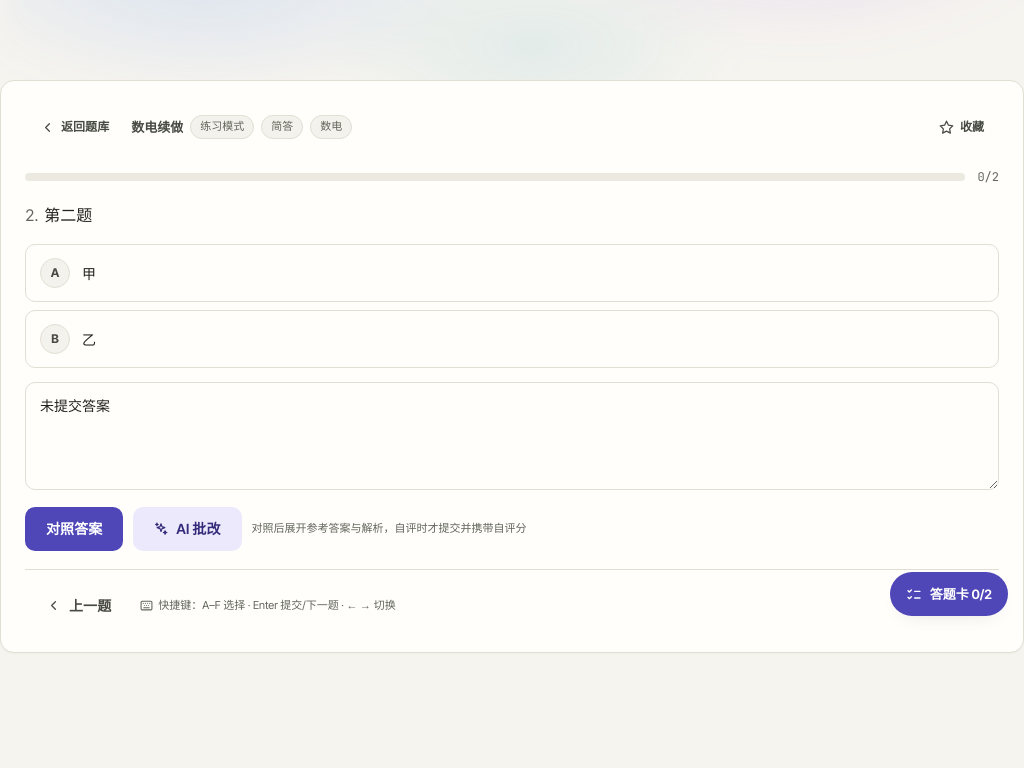
Scenario: 普通刷题持久会话前端 › 文本题自评提交失败保留对照结果，重试后才写入判分
Later steps or results of the test are not shown.
Step 1. Click the button "对照答案" → (74, 529), box [25, 507, 123, 551]
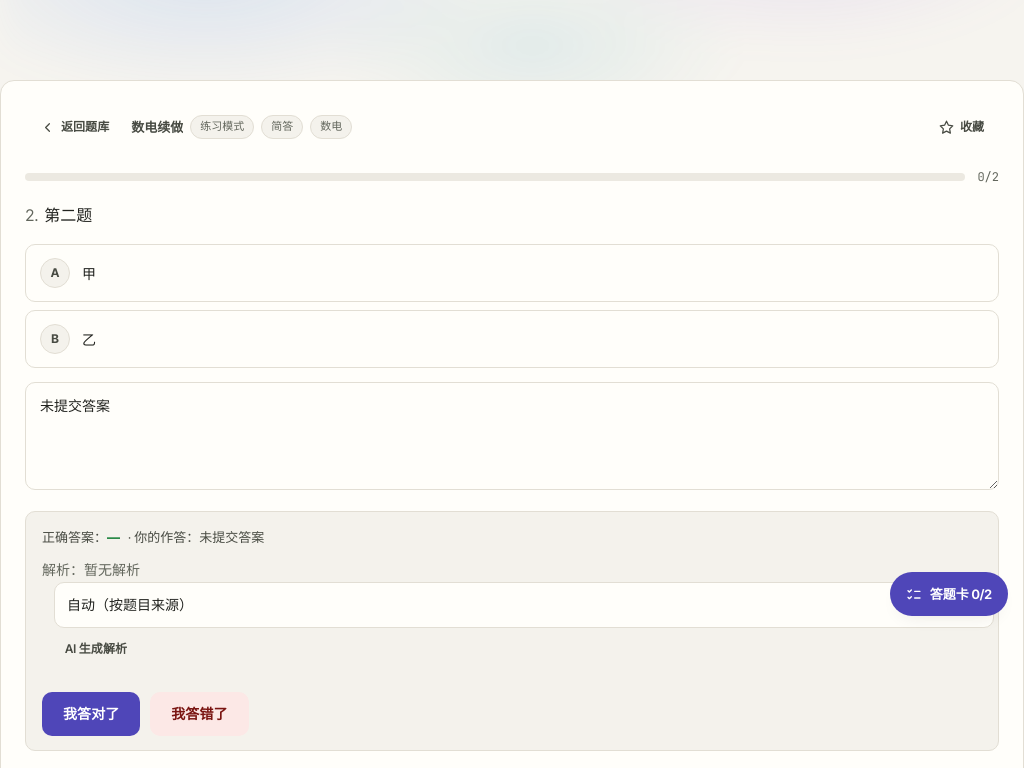
Step 2. Click the button "我答错了" → (199, 714), box [150, 692, 249, 736]
(page scrolled)
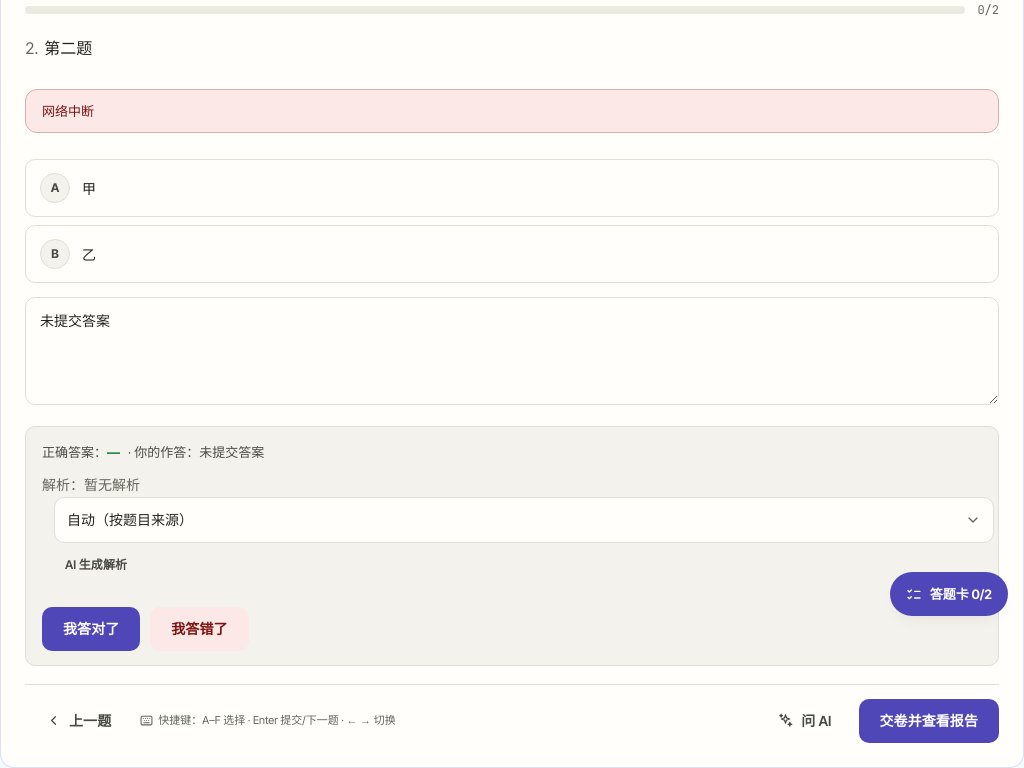
Expected: the button "我答错了" is shown, [150, 607, 249, 651]
Expected: the message reads "网络中断", [42, 103, 94, 119]
